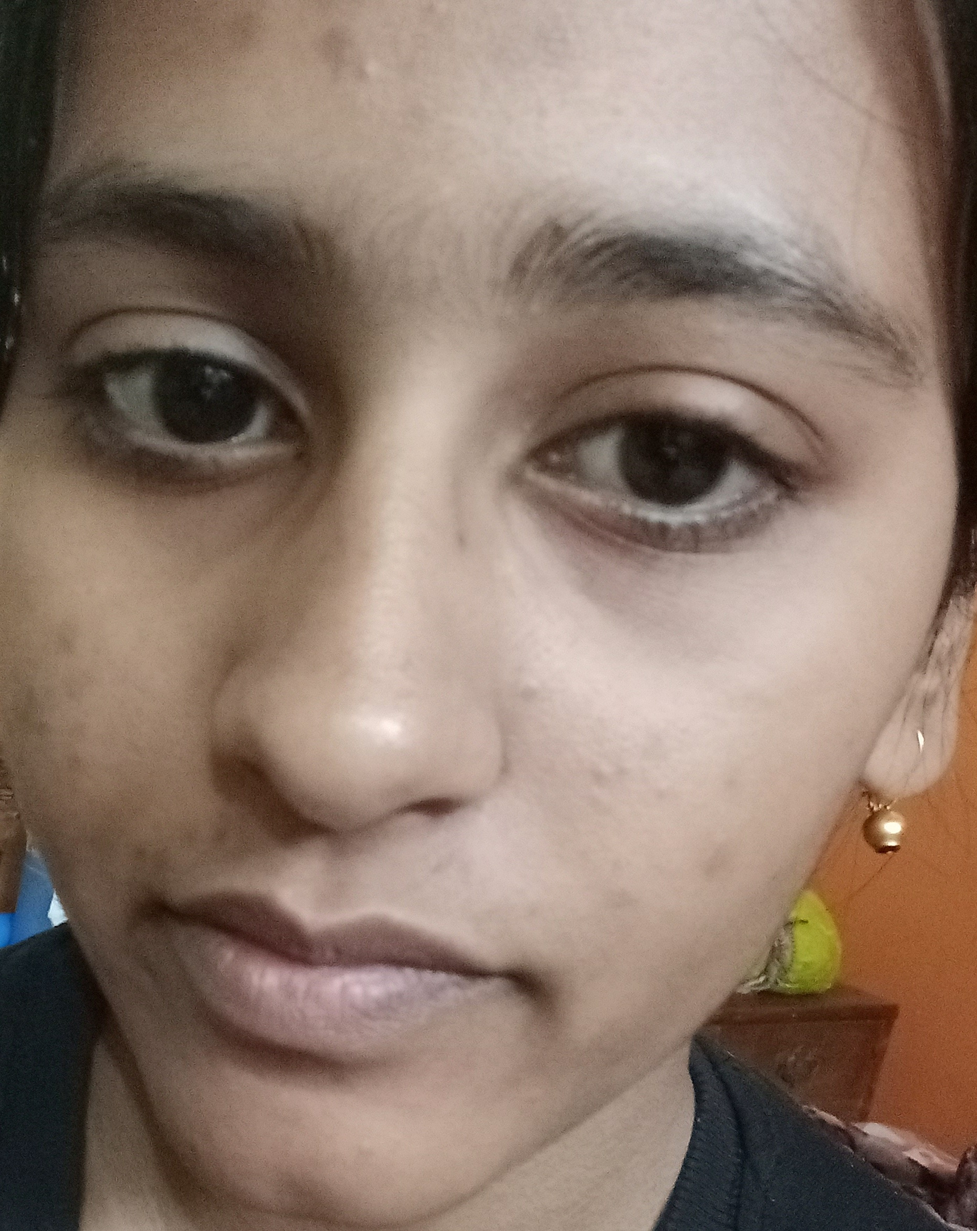papule: (337, 34, 418, 117), (701, 820, 749, 895), (589, 741, 626, 822)
